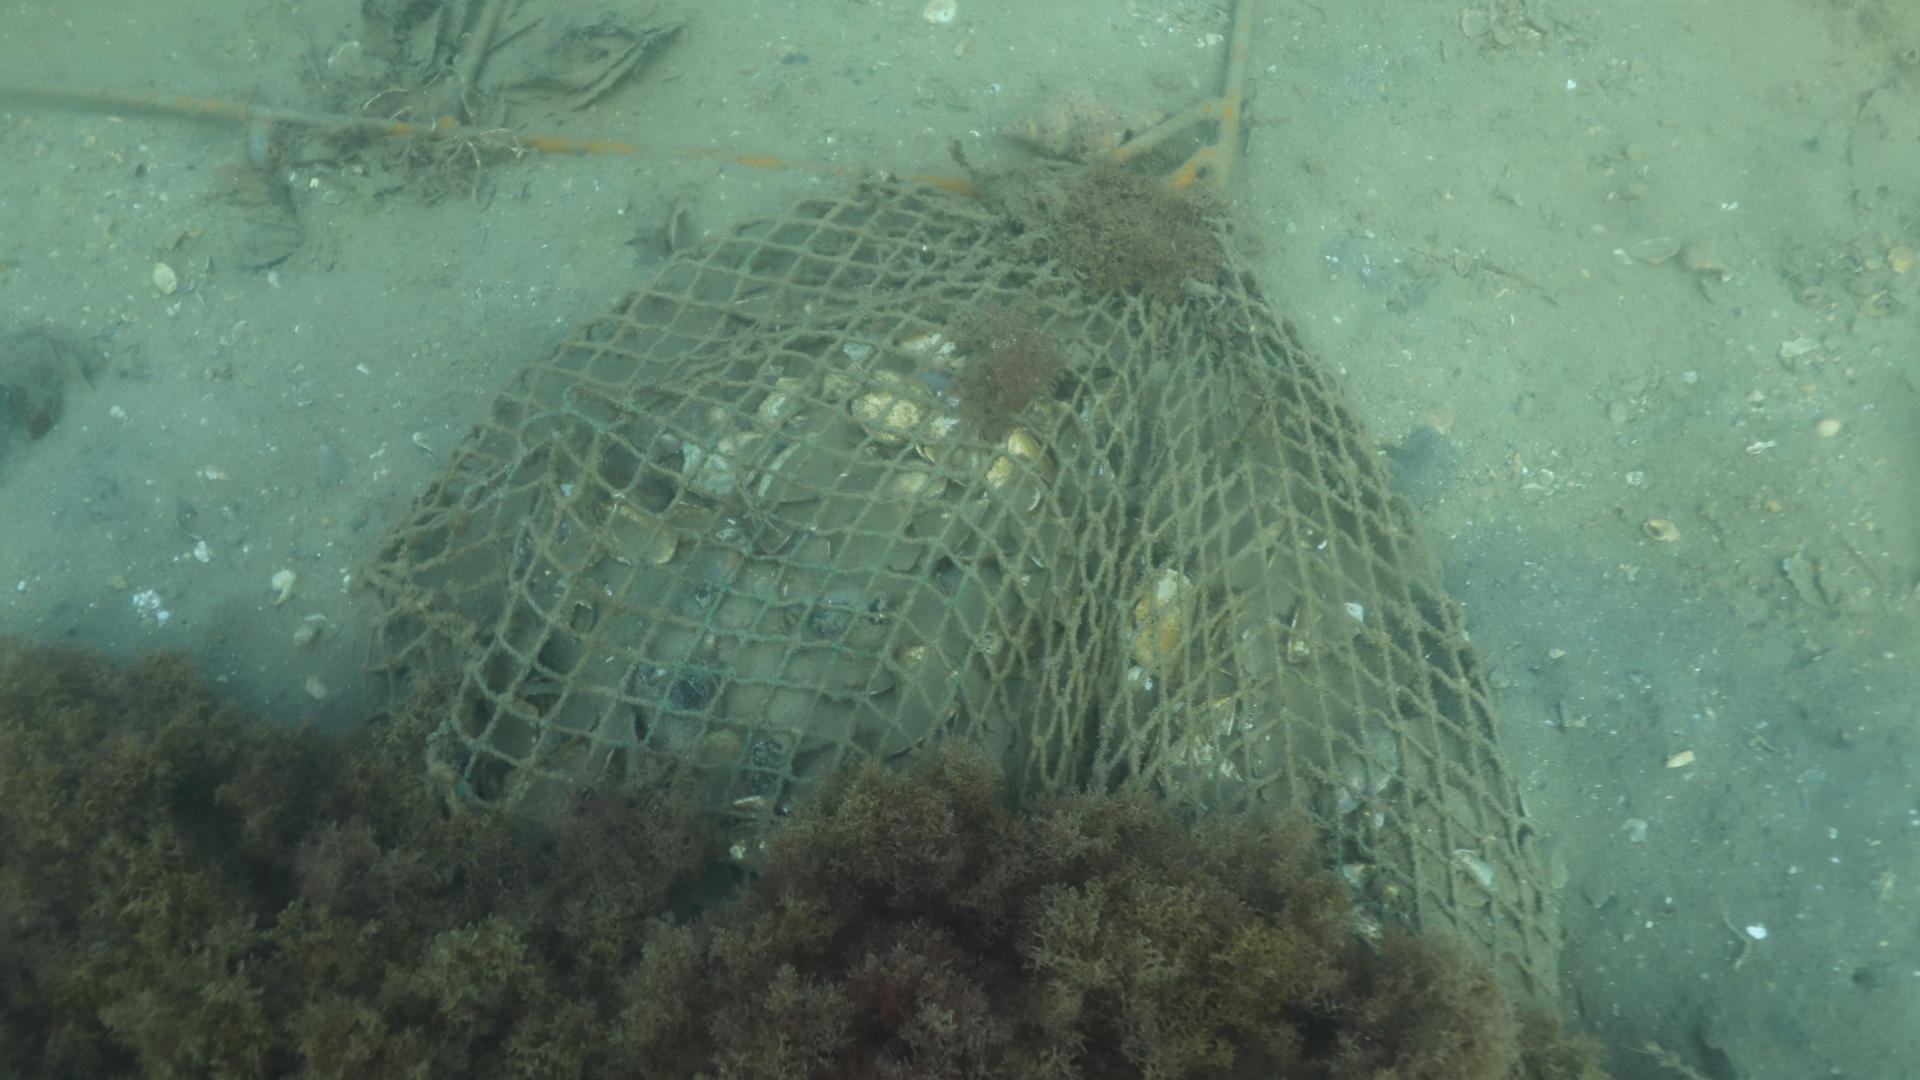fish net: (353, 175, 1553, 1000)
